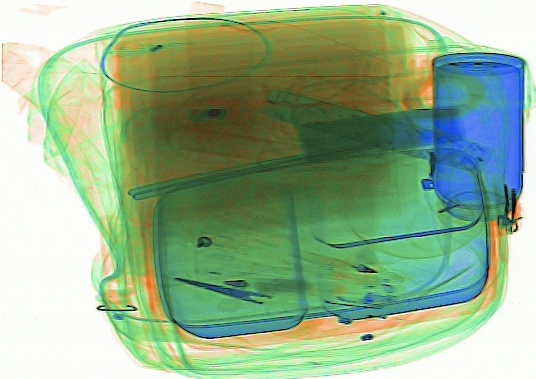scissors: (171, 276, 331, 340)
